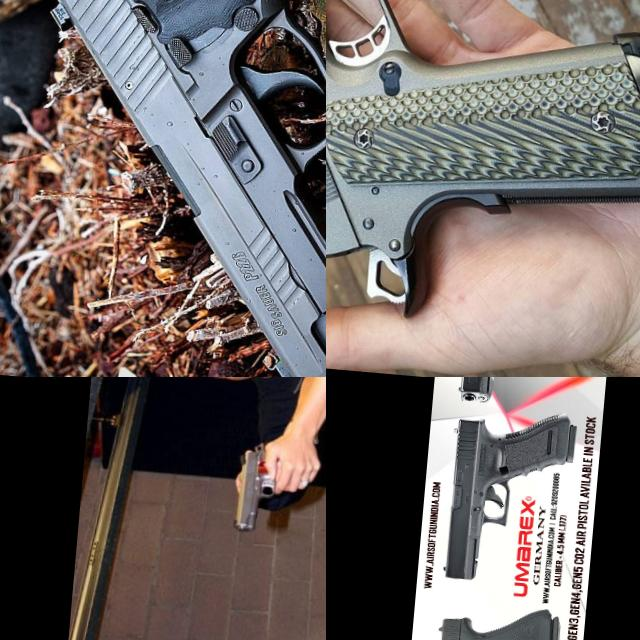handgun: (12, 0, 326, 377), (326, 0, 640, 345), (440, 400, 579, 588), (456, 377, 591, 467), (422, 597, 562, 640), (230, 438, 284, 538)
